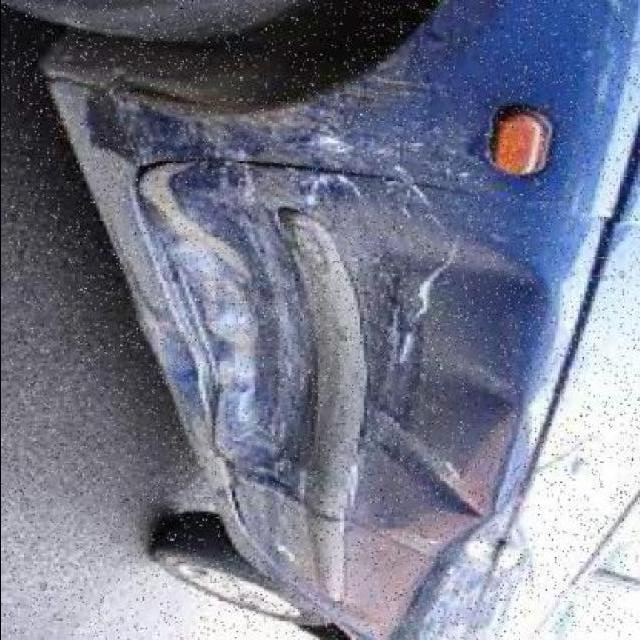doorouter-dent: (164, 180, 610, 504)
fender-dent: (128, 0, 640, 171)
